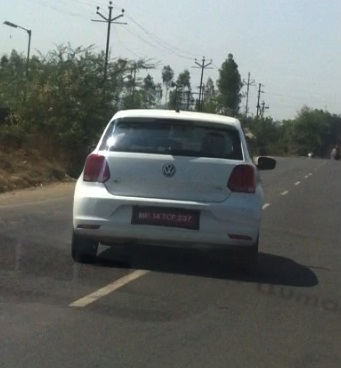number_plate: (114, 196, 206, 241)
